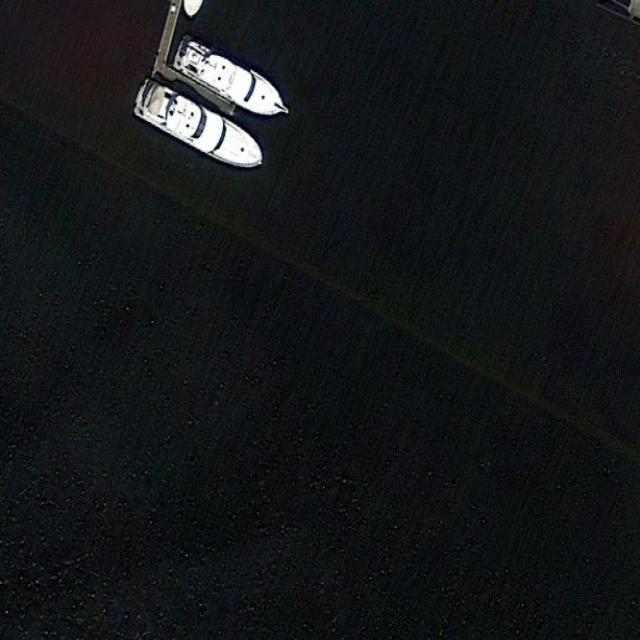ship: (131, 78, 264, 172), (173, 31, 290, 118)
